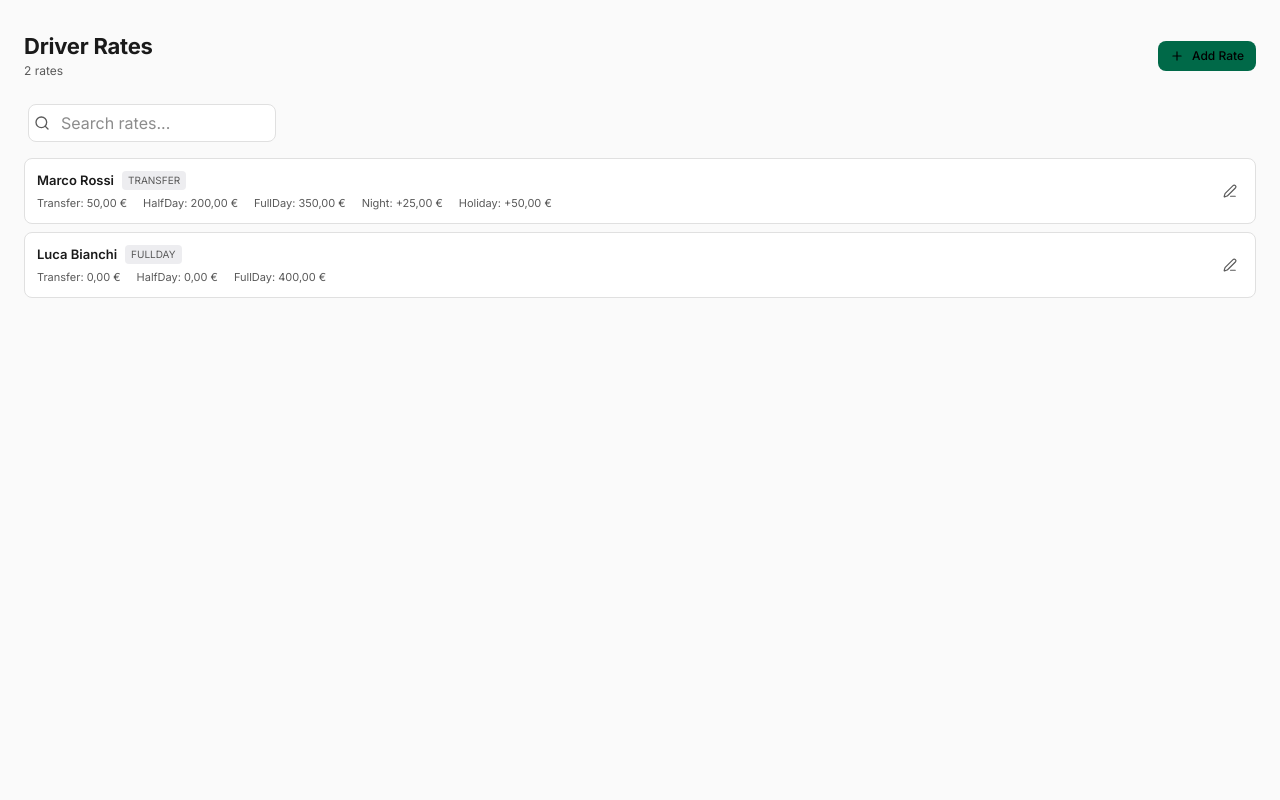
Test: DriverRateScreen › disables save button when driver not selected
expect the text "Marco Rossi" is shown: met, box [37, 171, 114, 190]
Click the button "Add Rate".
click(1207, 56)  # box [1158, 41, 1256, 71]
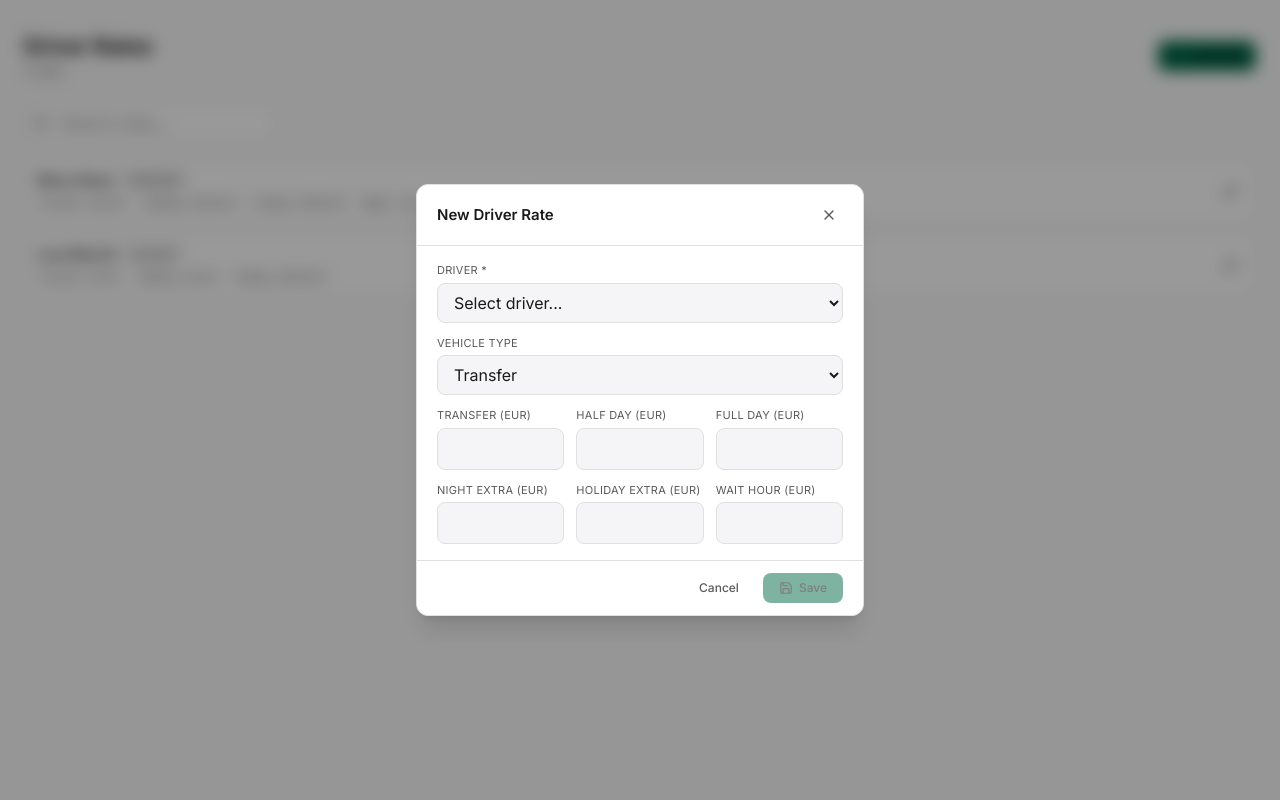
expect the heading "New Driver Rate" is shown: met, box [437, 204, 554, 226]
expect the button "Save" is disabled: met, box [763, 573, 843, 603]
